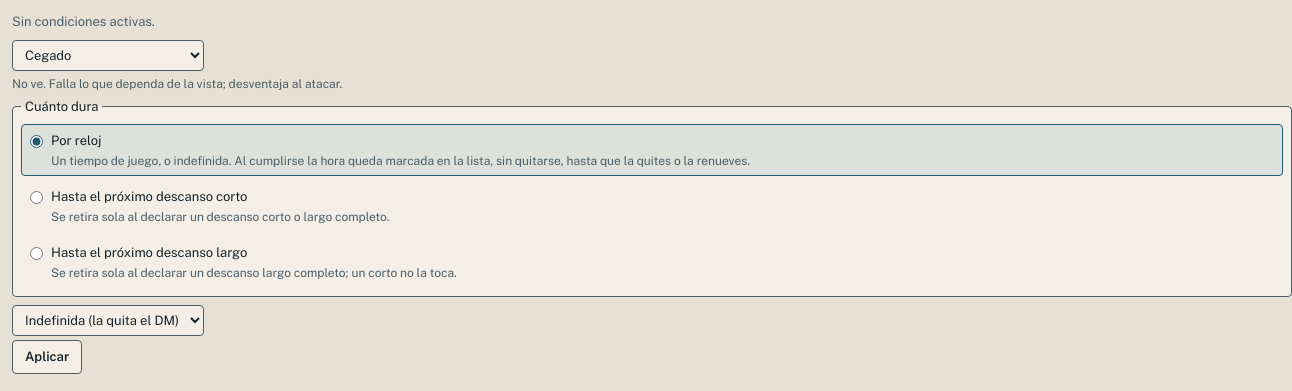
Condiciones — hasta el próximo descanso (E-PE-7) › al marcar «Hasta el próximo descanso largo» el selector de tiempos desaparece
Step 1. Click the radio button labelled "Hasta el próximo descanso largo" → point(36, 254), box [30,247,43,260]
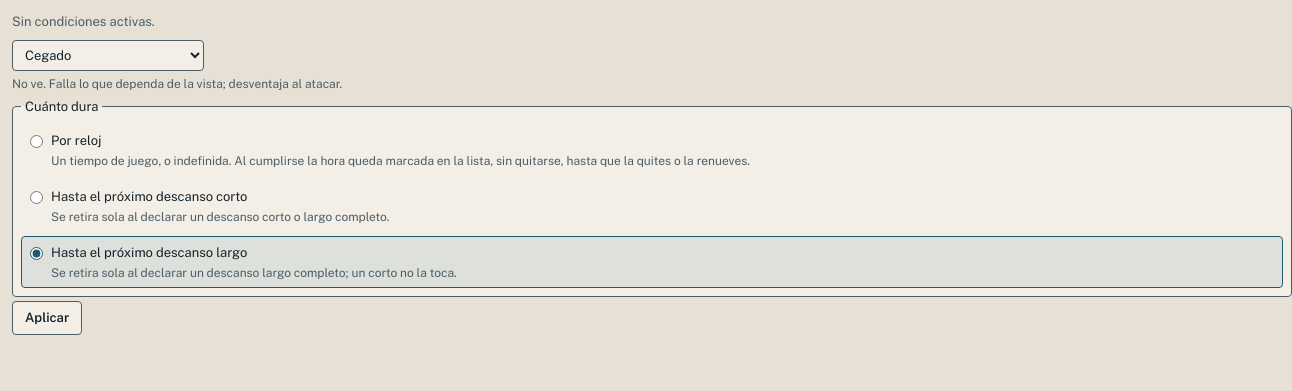
Result: the dropdown labelled "Duración" is gone
